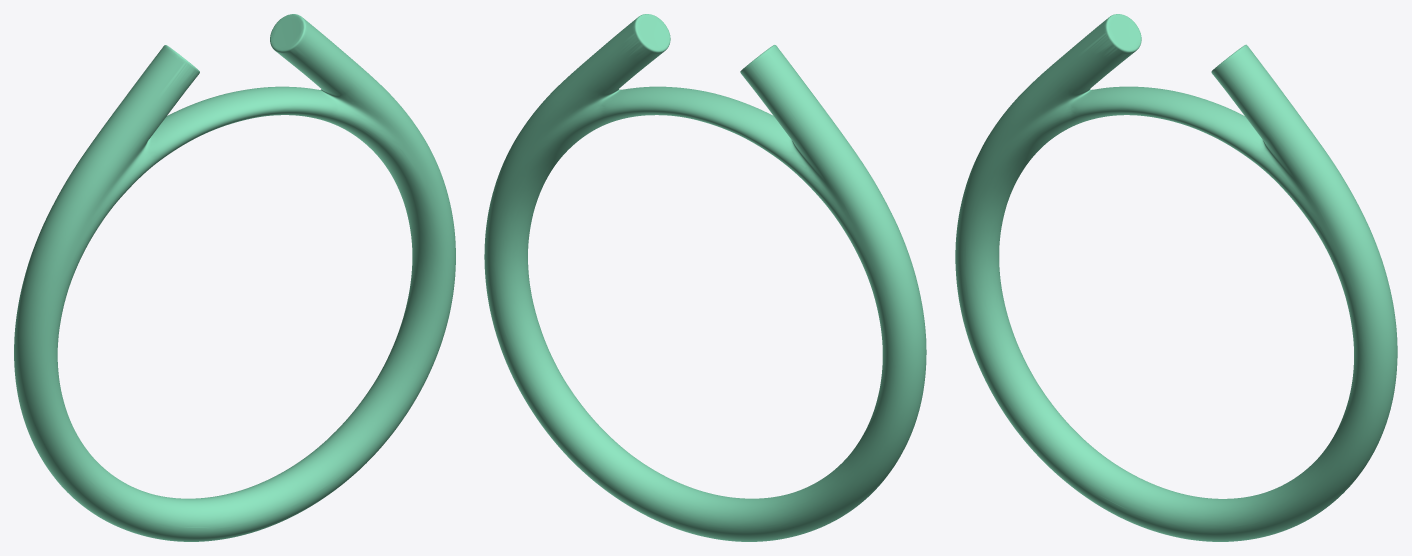
The picture shows the model from 3 angles, left to right: view 1: azimuth 30°, elevation 25°; view 2: azimuth 150°, elevation 25°; view 3: azimuth 330°, elevation 25°; orthographic projection.
Parts seen in each view (by area): view 1: Metal02; view 2: Metal02; view 3: Metal02.
Boxes of the visible parts, x1,y1,x2,y2 form: Metal02: [14, 14, 455, 541]; Metal02: [484, 14, 926, 541]; Metal02: [955, 14, 1397, 541].
Bounding box in the file's own units: 20.87 × 23.01 × 2.
